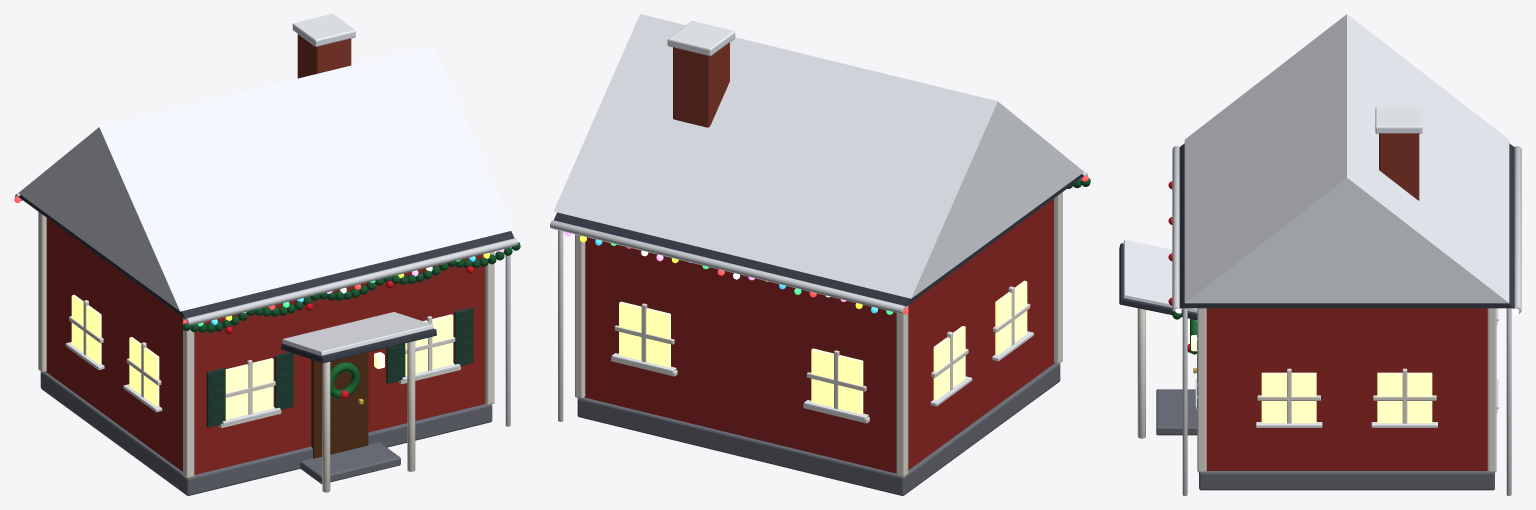
File: house_red.glb
3 renders of one model, left to right at view 1: azimuth 30°, elevation 25°; view 2: azimuth 150°, elevation 25°; view 3: azimuth 270°, elevation 25°, orthographic. The views are drawn at different scales.
Parts seen in each view (by area): view 1: house_red; view 2: house_red; view 3: house_red.
Boxes of the visible parts, <box> form: house_red: <box>14,14,520,495</box>; house_red: <box>549,14,1090,495</box>; house_red: <box>1119,14,1521,495</box>.
Bounding box in the file's own units: 6.77 × 6.5 × 6.96.
